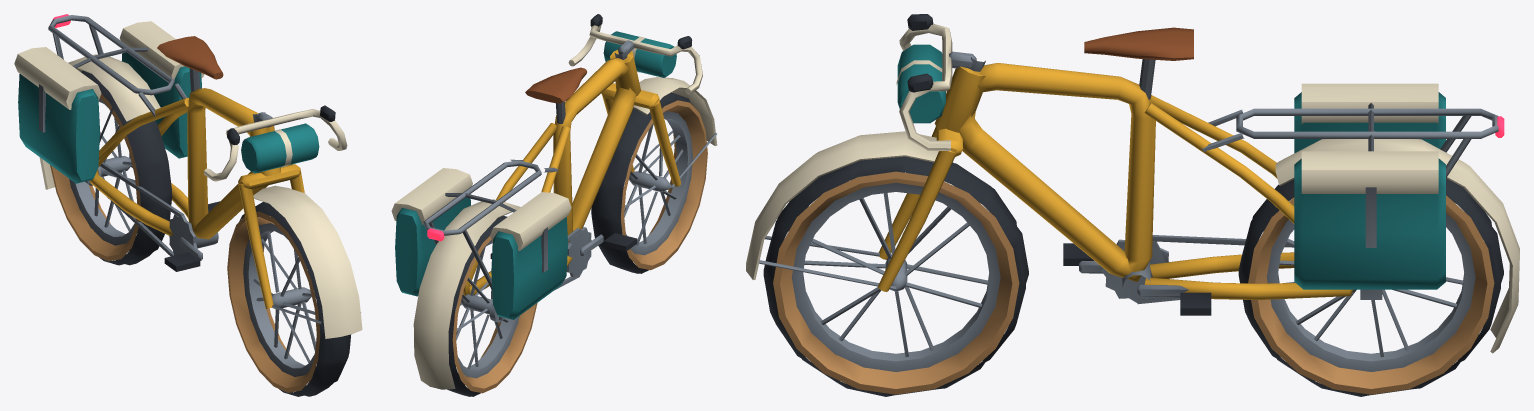
File: bicycle-gravel.glb
The picture shows the model from 3 angles, left to right: view 1: azimuth 30°, elevation 25°; view 2: azimuth 150°, elevation 25°; view 3: azimuth 270°, elevation 25°; orthographic projection. The views are drawn at different scales.
Visible parts, largest first — view 1: Gravel Bicycle Rally ivory, Gravel Bicycle Pannier teal, Gravel Bicycle Reef gold, Gravel Bicycle Gunmetal, Front wheel Gunmetal, Front wheel Gumwall tan, Rear wheel Trail rubber, Front wheel Trail rubber, Rear wheel Gumwall tan, Rear wheel Gunmetal, Gravel Bicycle Saddle leather, Gravel Bicycle Trail rubber; view 2: Gravel Bicycle Rally ivory, Gravel Bicycle Pannier teal, Gravel Bicycle Reef gold, Gravel Bicycle Gunmetal, Front wheel Gunmetal, Front wheel Gumwall tan, Front wheel Trail rubber, Rear wheel Gunmetal, Rear wheel Gumwall tan, Gravel Bicycle Saddle leather, Rear wheel Trail rubber, Gravel Bicycle Trail rubber; view 3: Gravel Bicycle Reef gold, Gravel Bicycle Rally ivory, Gravel Bicycle Pannier teal, Front wheel Gumwall tan, Front wheel Gunmetal, Gravel Bicycle Gunmetal, Rear wheel Gumwall tan, Rear wheel Gunmetal, Front wheel Trail rubber, Rear wheel Trail rubber, Gravel Bicycle Saddle leather, Gravel Bicycle Trail rubber.
Part boxes in pixels (x1,y1,x2,y2): Gravel Bicycle Rally ivory: (14,21,362,338); Gravel Bicycle Pannier teal: (18,52,319,183); Gravel Bicycle Reef gold: (89,88,304,308); Gravel Bicycle Gunmetal: (39,15,360,324); Front wheel Gunmetal: (243,223,319,376); Front wheel Gumwall tan: (227,211,320,392); Rear wheel Trail rubber: (81,70,172,265); Front wheel Trail rubber: (239,202,351,396); Rear wheel Gumwall tan: (50,94,140,261); Rear wheel Gunmetal: (69,98,140,245); Gravel Bicycle Saddle leather: (157,36,223,79); Gravel Bicycle Trail rubber: (164,105,335,271); Gravel Bicycle Rally ivory: (391,25,717,389); Gravel Bicycle Pannier teal: (395,31,676,319); Gravel Bicycle Reef gold: (463,50,680,295); Gravel Bicycle Gunmetal: (423,40,716,320); Front wheel Gunmetal: (621,111,692,255); Front wheel Gumwall tan: (620,100,707,270); Front wheel Trail rubber: (591,92,693,273); Rear wheel Gunmetal: (453,240,519,378); Rear wheel Gumwall tan: (452,236,537,393); Gravel Bicycle Saddle leather: (525,67,586,103); Rear wheel Trail rubber: (447,216,507,396); Gravel Bicycle Trail rubber: (490,14,692,259); Gravel Bicycle Reef gold: (878,63,1352,299); Gravel Bicycle Rally ivory: (746,24,1519,353); Gravel Bicycle Pannier teal: (897,44,1445,289); Front wheel Gumwall tan: (773,171,1019,394); Front wheel Gunmetal: (791,182,1000,371); Gravel Bicycle Gunmetal: (759,51,1498,304); Rear wheel Gumwall tan: (1248,195,1494,394); Rear wheel Gunmetal: (1266,213,1475,371); Front wheel Trail rubber: (763,156,1028,396); Rear wheel Trail rubber: (1238,178,1503,396); Gravel Bicycle Saddle leather: (1084,27,1193,60); Gravel Bicycle Trail rubber: (907,14,1211,315).
Size of the model in its own units: 0.588 by 1.07 by 2.12.
